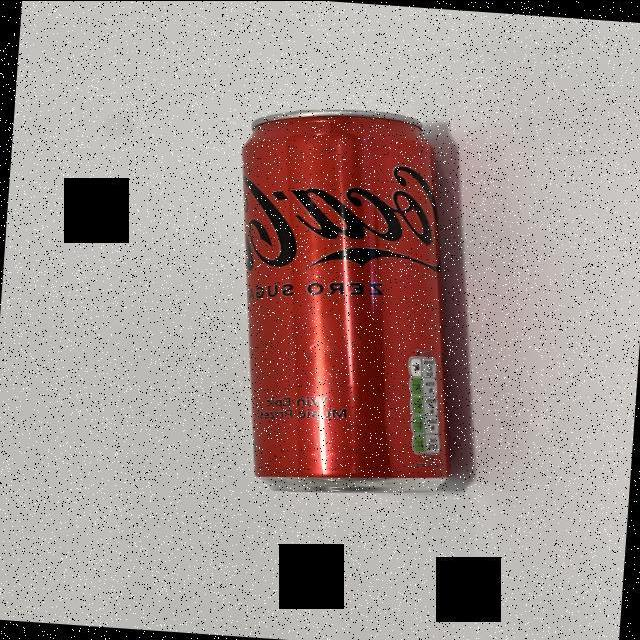can: (242, 108, 452, 494)
